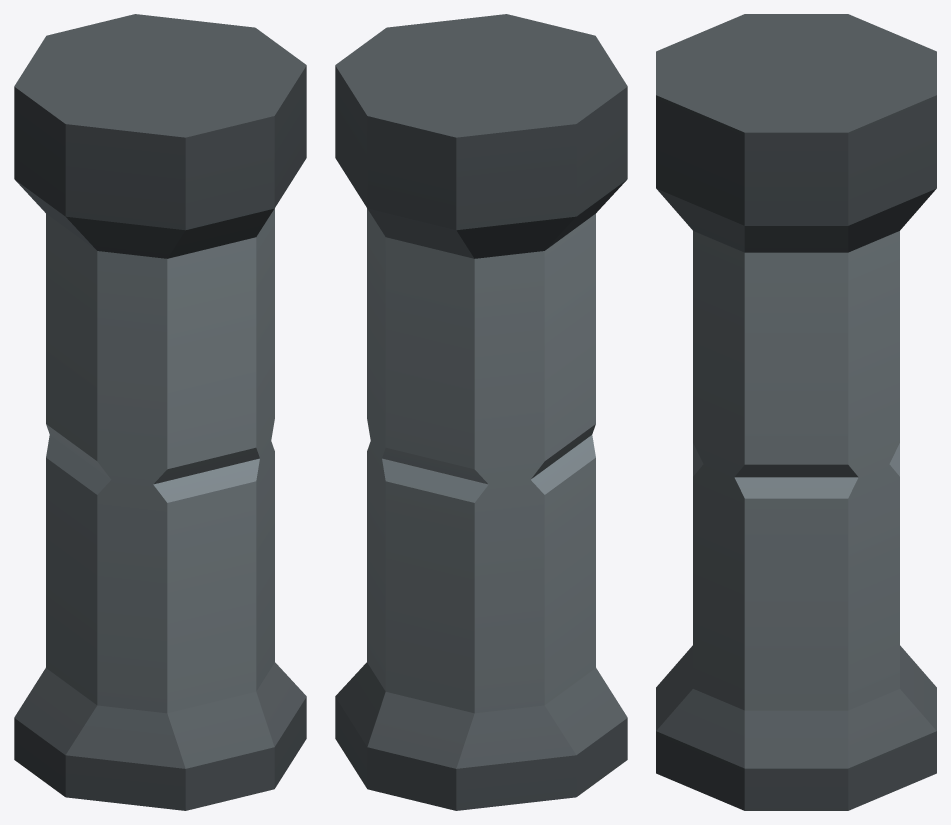
File: dungeon-pillar.glb
The picture shows the model from 3 angles, left to right: view 1: azimuth 30°, elevation 25°; view 2: azimuth 150°, elevation 25°; view 3: azimuth 270°, elevation 25°; orthographic projection.
Visible parts, largest first — view 1: dungeon-pillar; view 2: dungeon-pillar; view 3: dungeon-pillar.
Boxes of the visible parts, left/top/right/bottom form: dungeon-pillar: left=14, top=14, right=306, bottom=810; dungeon-pillar: left=335, top=14, right=627, bottom=810; dungeon-pillar: left=656, top=14, right=936, bottom=810.
Bounding box in the file's own units: 1.13 × 3 × 1.13.
1 material, 1 textured.
